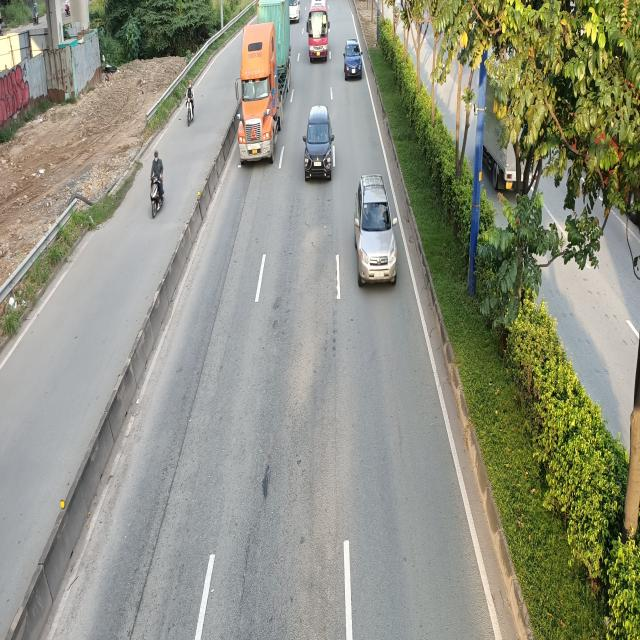car: (354, 172, 398, 284), (306, 105, 338, 182), (343, 38, 362, 80)
coach: (307, 0, 330, 63)
container: (236, 0, 291, 165)
